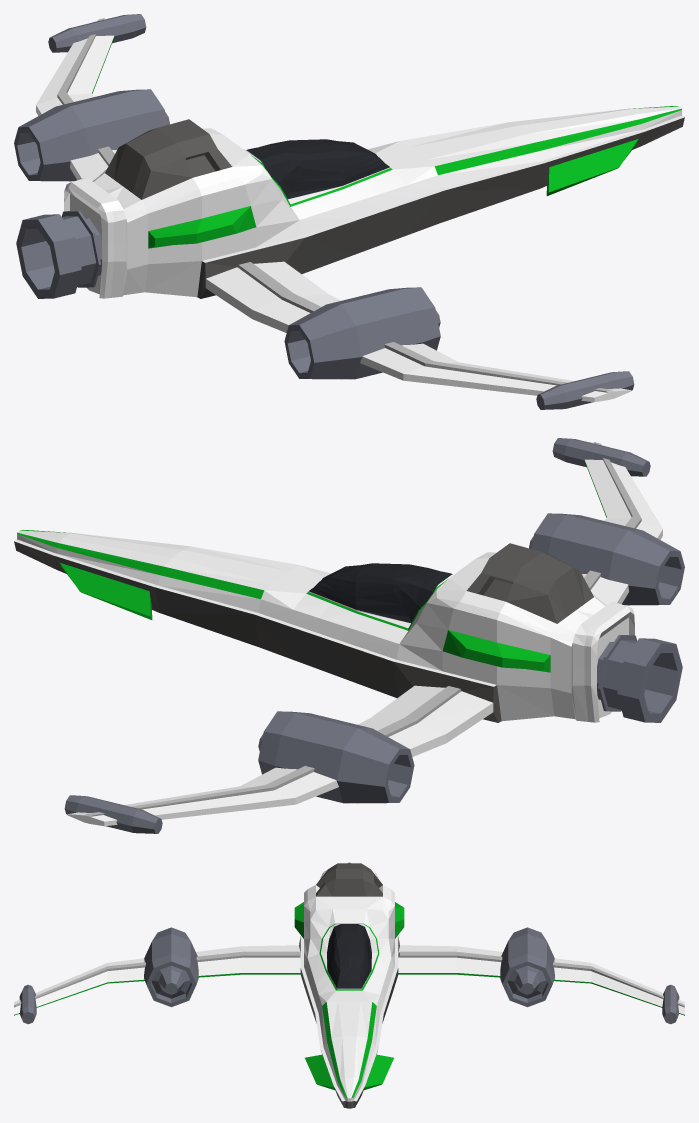
The model's file is SpaceShip2.glb.
3 renders of one model, top to bottom at view 1: azimuth 30°, elevation 25°; view 2: azimuth 150°, elevation 25°; view 3: azimuth 270°, elevation 25°, orthographic. The views are drawn at different scales.
Visible parts, largest first — view 1: Spaceship2-main, Spaceship2-ExhastStart, Spaceship2-ExhastCenter, Spaceship2-ExhastEnd; view 2: Spaceship2-main, Spaceship2-ExhastStart, Spaceship2-ExhastCenter, Spaceship2-ExhastEnd; view 3: Spaceship2-main, Spaceship2-ExhastStart, Spaceship2-ExhastEnd.
Boxes of the visible parts, x1,y1,x2,y2 form: Spaceship2-main: (36,18,684,402); Spaceship2-ExhastStart: (14,89,440,379); Spaceship2-ExhastCenter: (16,211,101,298); Spaceship2-ExhastEnd: (48,14,634,409); Spaceship2-main: (14,442,662,826); Spaceship2-ExhastStart: (258,513,684,803); Spaceship2-ExhastCenter: (597,635,682,722); Spaceship2-ExhastEnd: (64,438,650,833); Spaceship2-main: (14,863,684,1108); Spaceship2-ExhastStart: (144,927,554,1007); Spaceship2-ExhastEnd: (19,984,679,1024).
Size of the model in its own units: 12.17 by 2.81 by 16.71.
